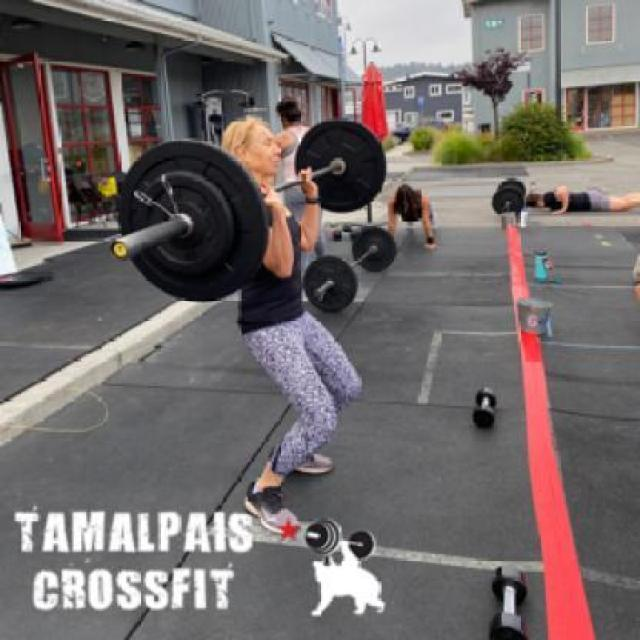barbell: (108, 135, 276, 309), (304, 252, 362, 314)
